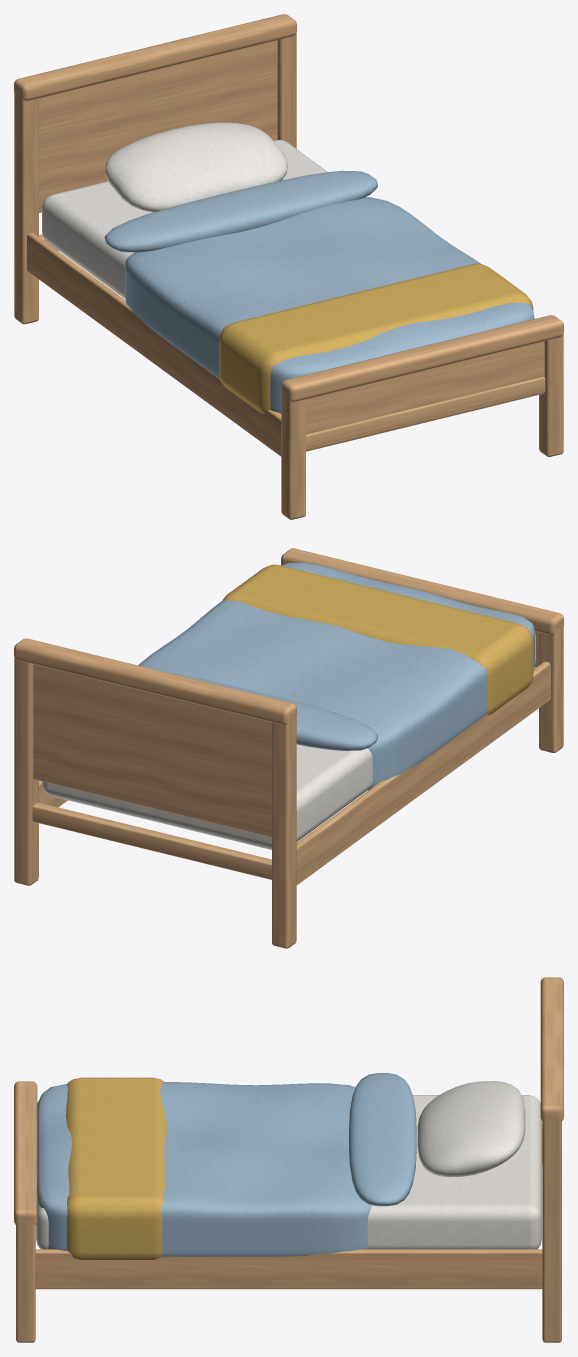
File: prop_bed.glb
The picture shows the model from 3 angles, top to bottom: view 1: azimuth 30°, elevation 25°; view 2: azimuth 150°, elevation 25°; view 3: azimuth 270°, elevation 25°; orthographic projection.
Parts seen in each view (by area): view 1: prop_bed; view 2: prop_bed; view 3: prop_bed.
Boxes of the visible parts, box(x1,y1,x2,y2) form: prop_bed: box(14, 14, 563, 519); prop_bed: box(14, 548, 563, 948); prop_bed: box(14, 977, 563, 1342).
Bounding box in the file's own units: 1.5 × 1.25 × 2.64.
Materials: 4 (4 with a texture image).
